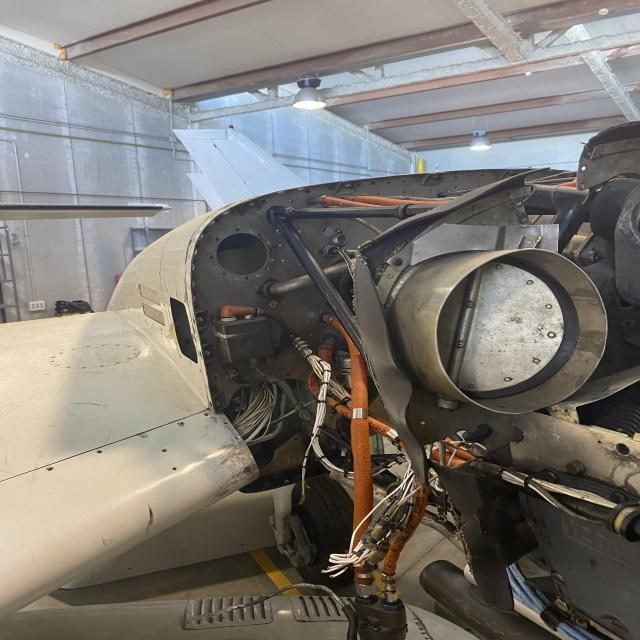Fastener Damage: (44, 466, 56, 474), (233, 434, 240, 442), (95, 448, 103, 454), (171, 466, 178, 472), (223, 420, 230, 426), (161, 448, 168, 453), (204, 413, 210, 416)
